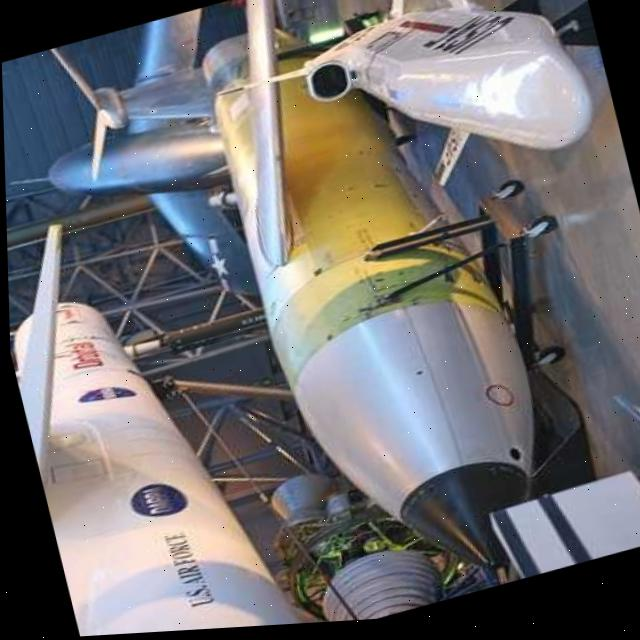missile: (77, 0, 559, 636), (5, 187, 311, 640), (261, 0, 604, 217)
